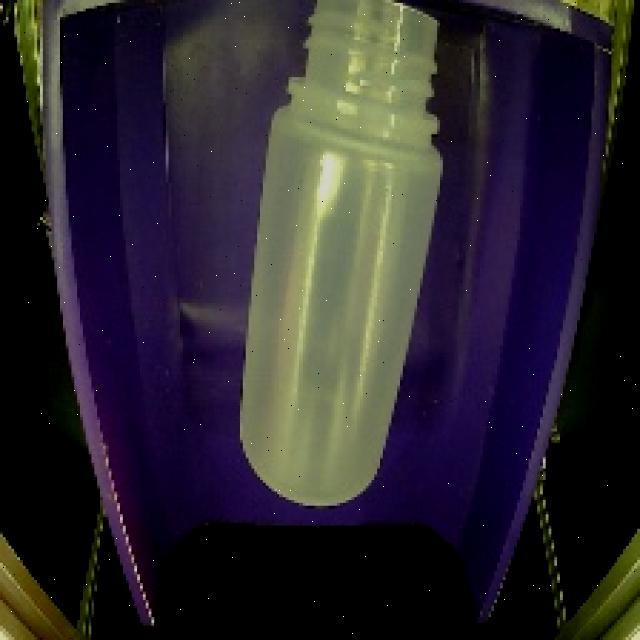plastic: (223, 0, 463, 526)
